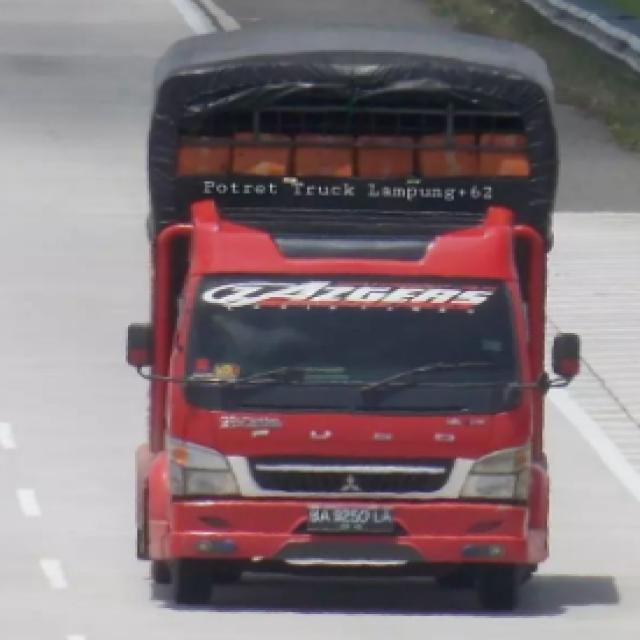truck: (123, 32, 601, 619)
